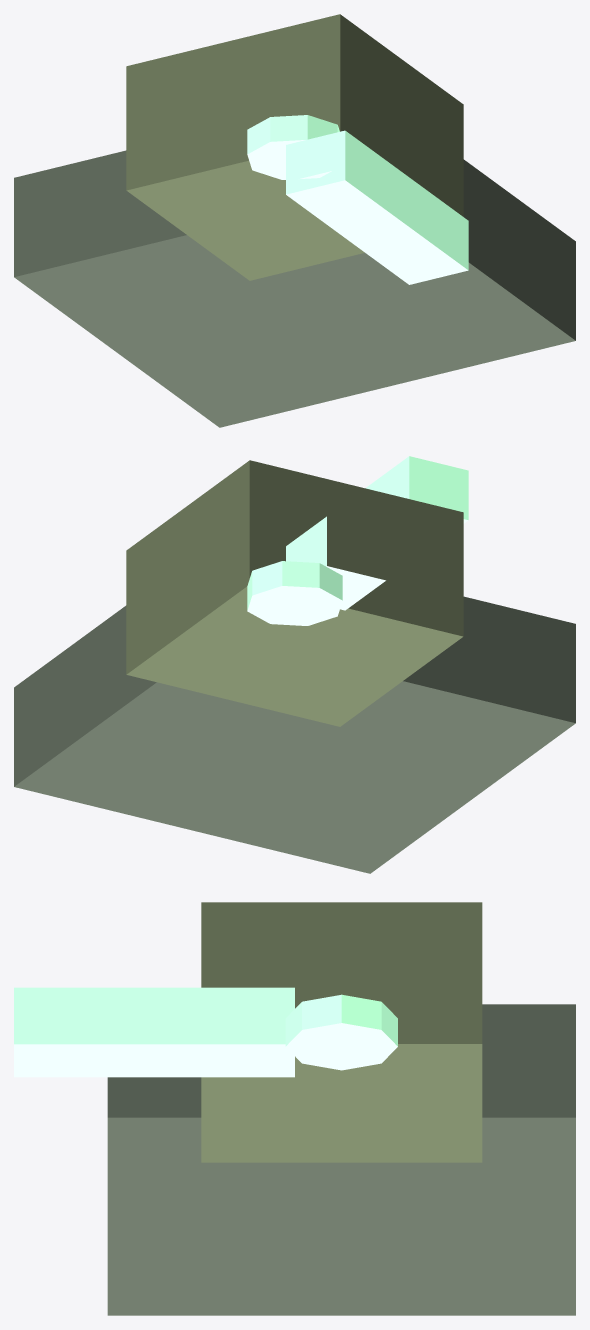
The model's file is bunker.gltf.
3 renders of one model, top to bottom at view 1: azimuth 30°, elevation 25°; view 2: azimuth 150°, elevation 25°; view 3: azimuth 270°, elevation 25°, orthographic. The views are drawn at different scales.
Visible parts, largest first — view 1: Bunker; view 2: Bunker; view 3: Bunker.
Part boxes in pixels (left/top/right/bottom): Bunker: left=14, top=14, right=575, bottom=427; Bunker: left=14, top=456, right=575, bottom=873; Bunker: left=14, top=902, right=575, bottom=1315.
Size of the model in its own units: 1.5 by 0.9 by 1.8.
